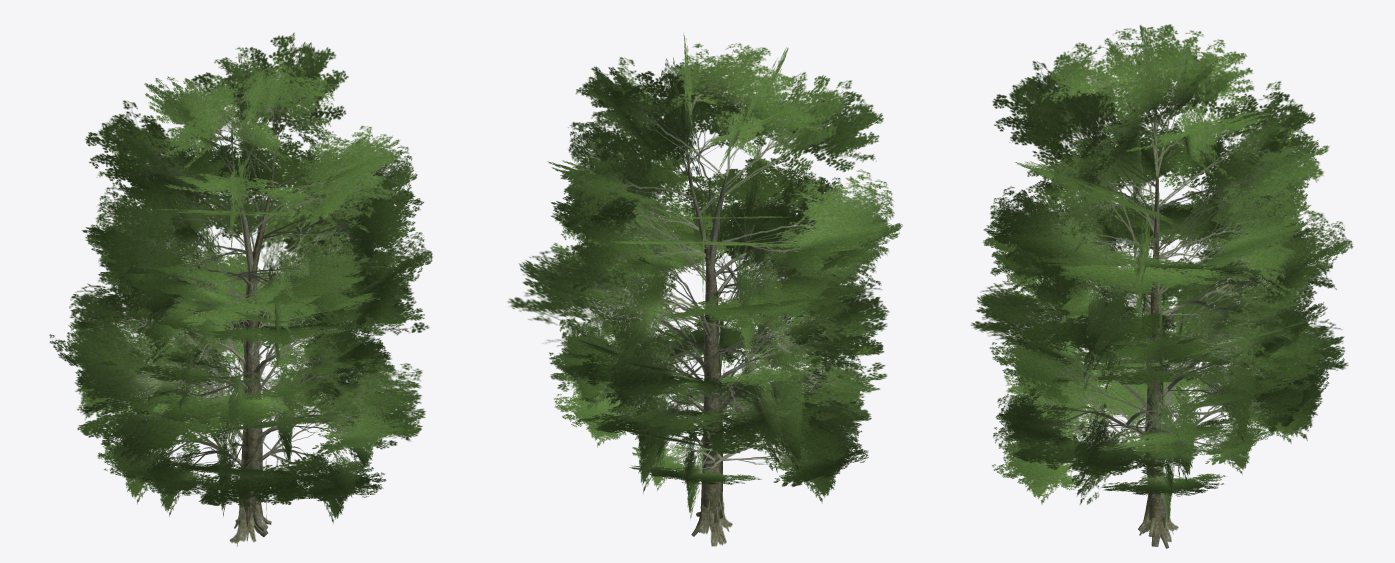
Rendered from Rotbuche.glb.
3 views of the same model, side by side, from view 1: azimuth 30°, elevation 25°; view 2: azimuth 150°, elevation 25°; view 3: azimuth 270°, elevation 25° (orthographic). The views are drawn at different scales.
Visible parts, largest first — view 1: mesh; view 2: mesh; view 3: mesh.
Part boxes in pixels (x1,y1,x2,y2): mesh: (49, 32, 432, 546); mesh: (507, 33, 902, 546); mesh: (971, 24, 1353, 548).
Size of the model in its own units: 21.93 by 27 by 19.92.
Materials: 1 (1 with a texture image).
